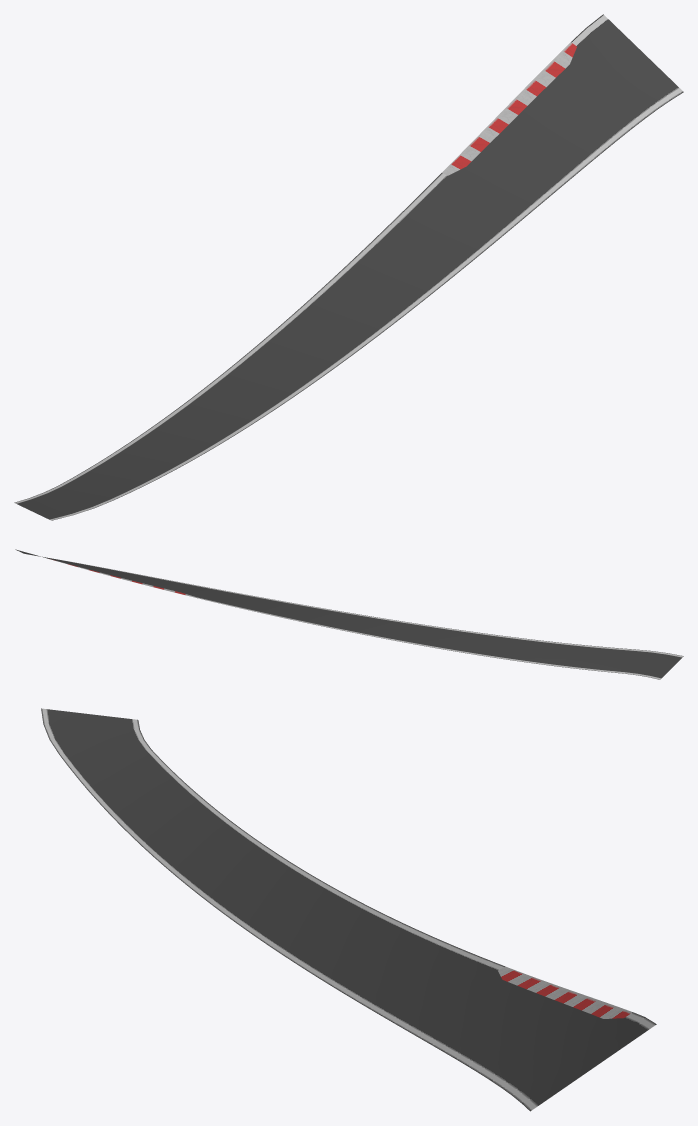
Rendered from sm_road.010.fbx.
3 views of the same model, one above another, from view 1: azimuth 30°, elevation 25°; view 2: azimuth 150°, elevation 25°; view 3: azimuth 270°, elevation 25° (orthographic). The views are drawn at different scales.
Parts seen in each view (by area): view 1: sm_road.016; view 2: sm_road.016; view 3: sm_road.016.
Part boxes in pixels (x1=…): sm_road.016: x1=14, y1=14, x2=683, y2=520; sm_road.016: x1=15, y1=549, x2=683, y2=679; sm_road.016: x1=41, y1=708, x2=656, y2=1111.
Bounding box in the file's own units: 186 × 32.95 × 92.13.
